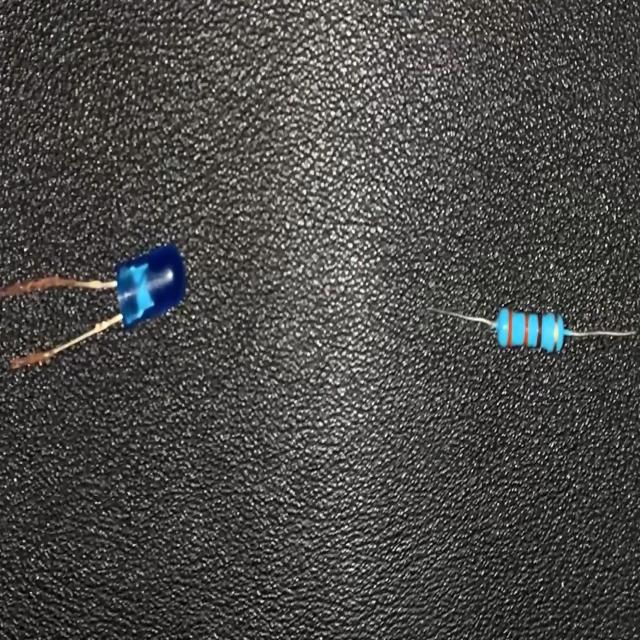LED: (1, 236, 187, 372)
resistor: (426, 299, 635, 356)
rust: (4, 270, 80, 300), (8, 348, 55, 368)
